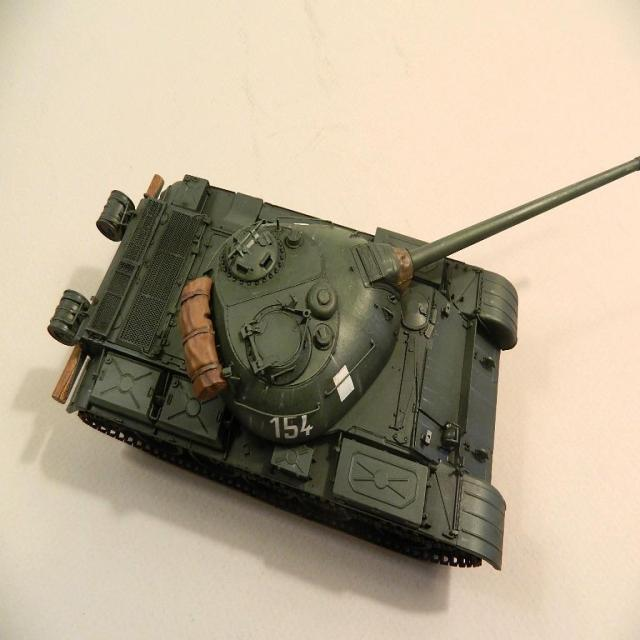MIL_MBT: (52, 114, 536, 594)
